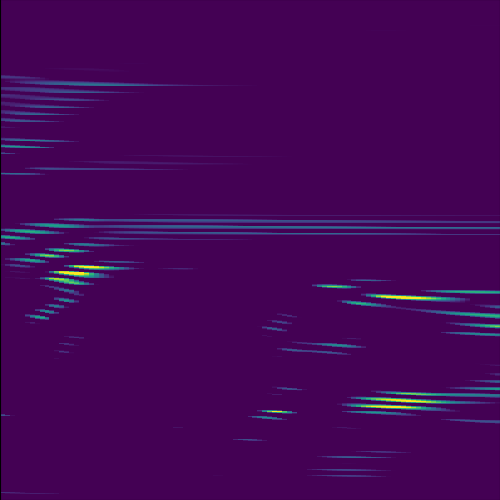semblance: (342, 388, 474, 418), (37, 262, 126, 289)
